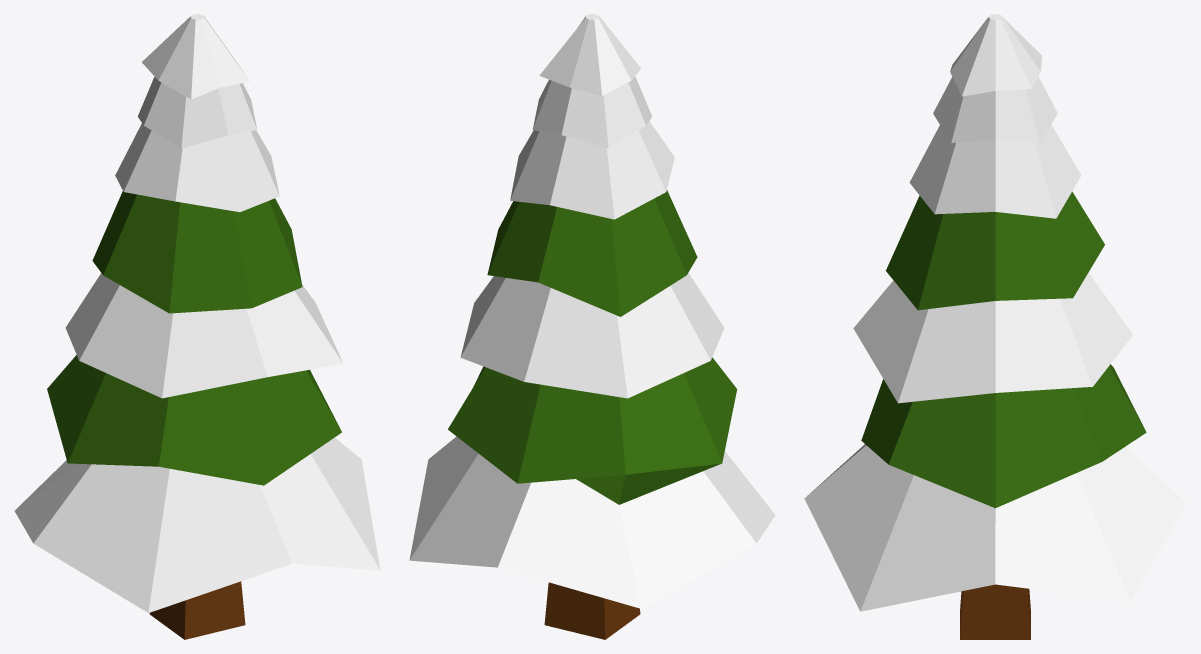
Rendered from tree8snowy.fbx.
3 renders of one model, left to right at view 1: azimuth 30°, elevation 25°; view 2: azimuth 150°, elevation 25°; view 3: azimuth 270°, elevation 25°, orthographic.
Parts seen in each view (by area): view 1: Cylinder, Cube; view 2: Cylinder, Cube; view 3: Cylinder, Cube.
Part boxes in pixels (x1,y1,x2,y2): Cylinder: [14, 14, 380, 612]; Cube: [149, 581, 245, 639]; Cylinder: [409, 14, 775, 608]; Cube: [544, 582, 640, 639]; Cylinder: [804, 14, 1186, 611]; Cube: [960, 584, 1030, 639].
Size of the model in its own units: 367 by 645 by 367.
